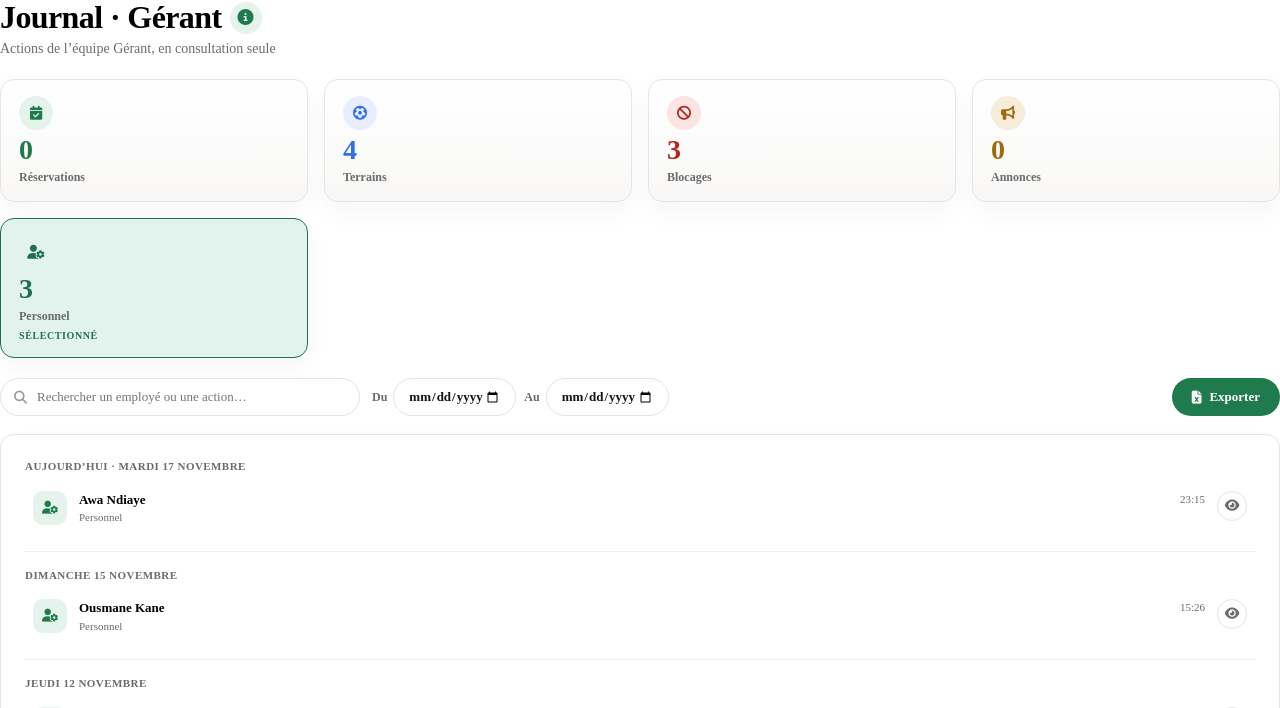
Test: Journal d’audit page › exports exactly the entries of the selected domain card, and blocks an inverted period
Earlier steps of the test are not shown.
Click the button "Exporter" at (1226, 397), box [1172, 378, 1279, 416]
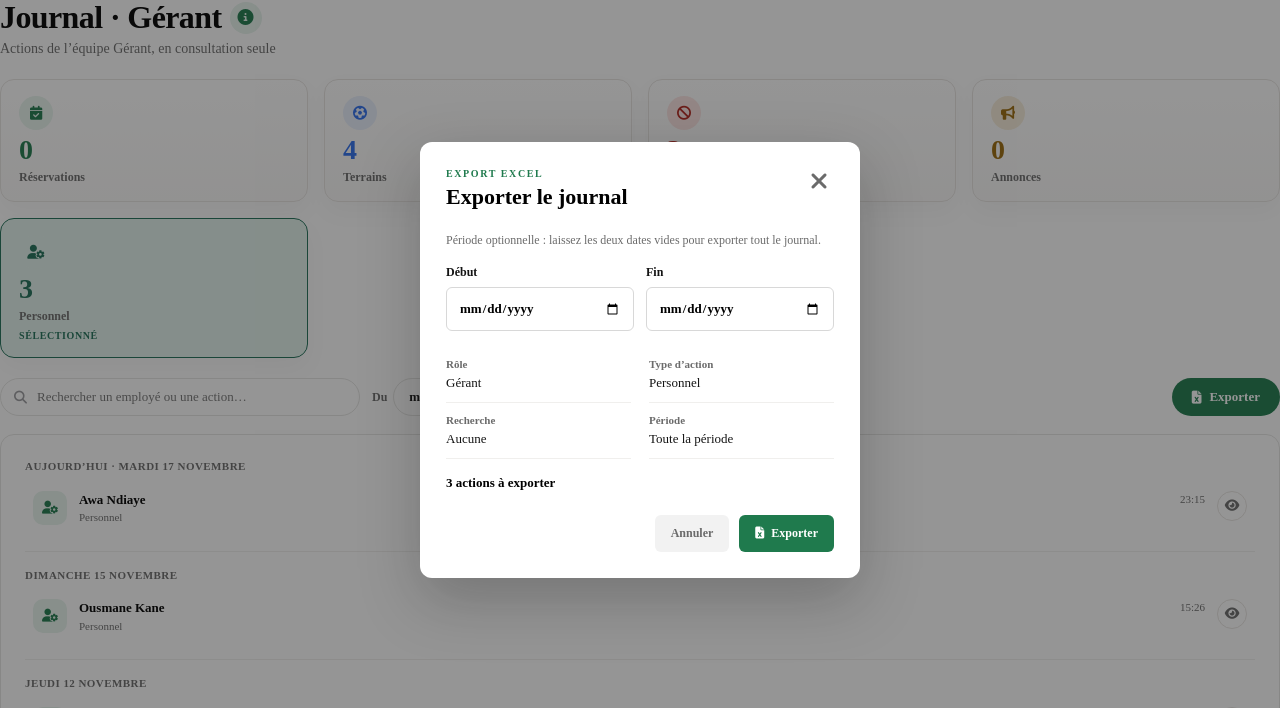
Type "2026-10-06" into the date field labelled "Début" at (540, 309), box [446, 287, 634, 331]
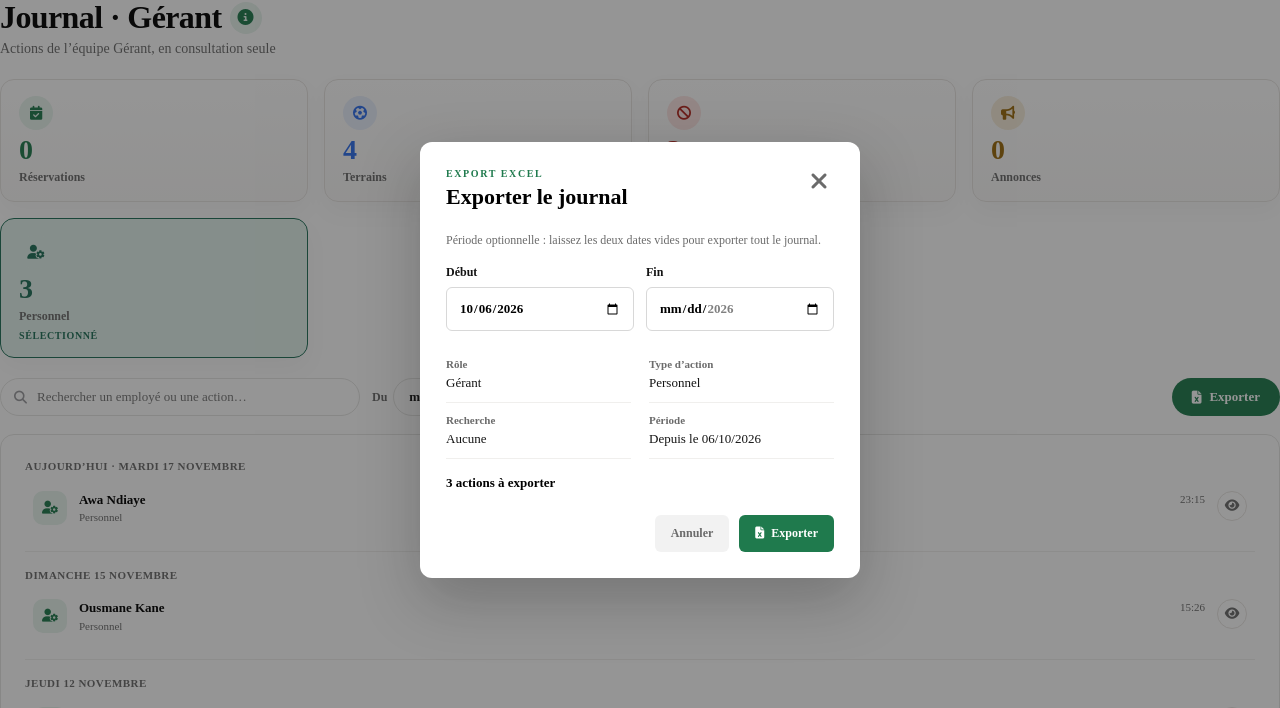
Type "2026-10-03" into the date field labelled "Fin" at (740, 309), box [646, 287, 834, 331]
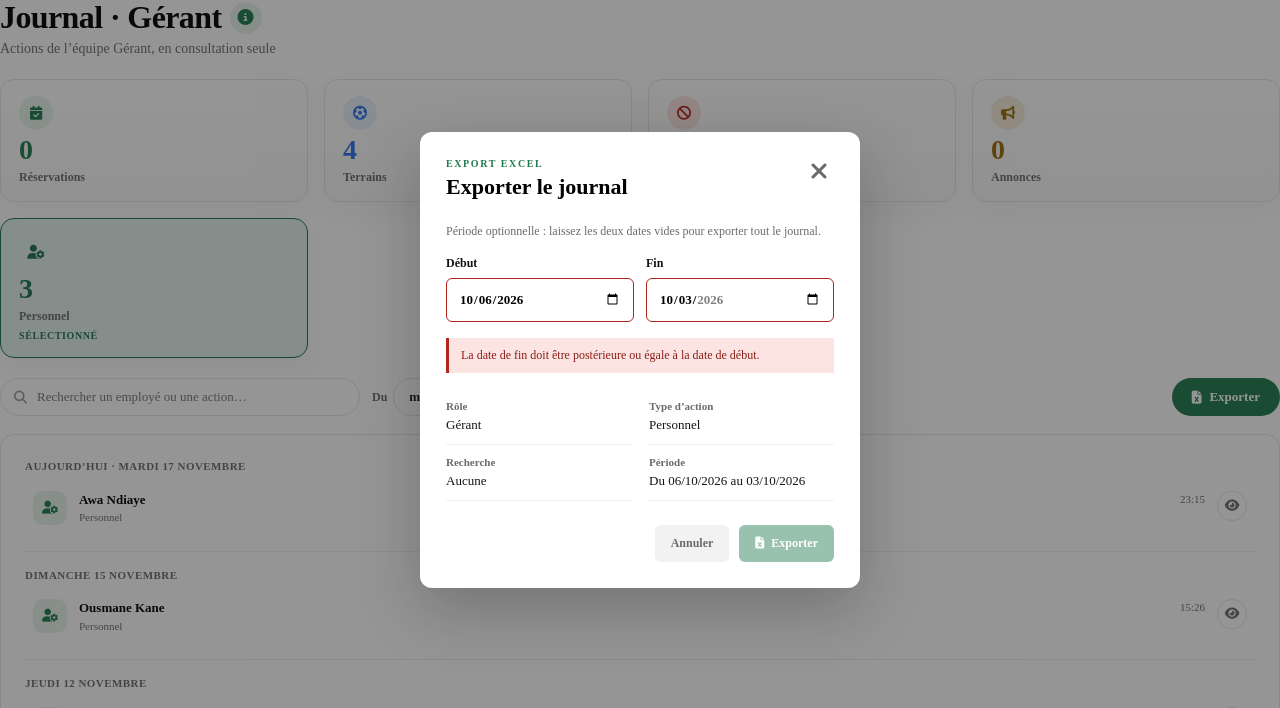
Now the message shows "La date de fin doit être postérieure", box [461, 348, 760, 362]
Now the button "Exporter" is disabled, box [739, 525, 834, 562]
Clear the date field labelled "Début" at (540, 300), box [446, 278, 634, 322]
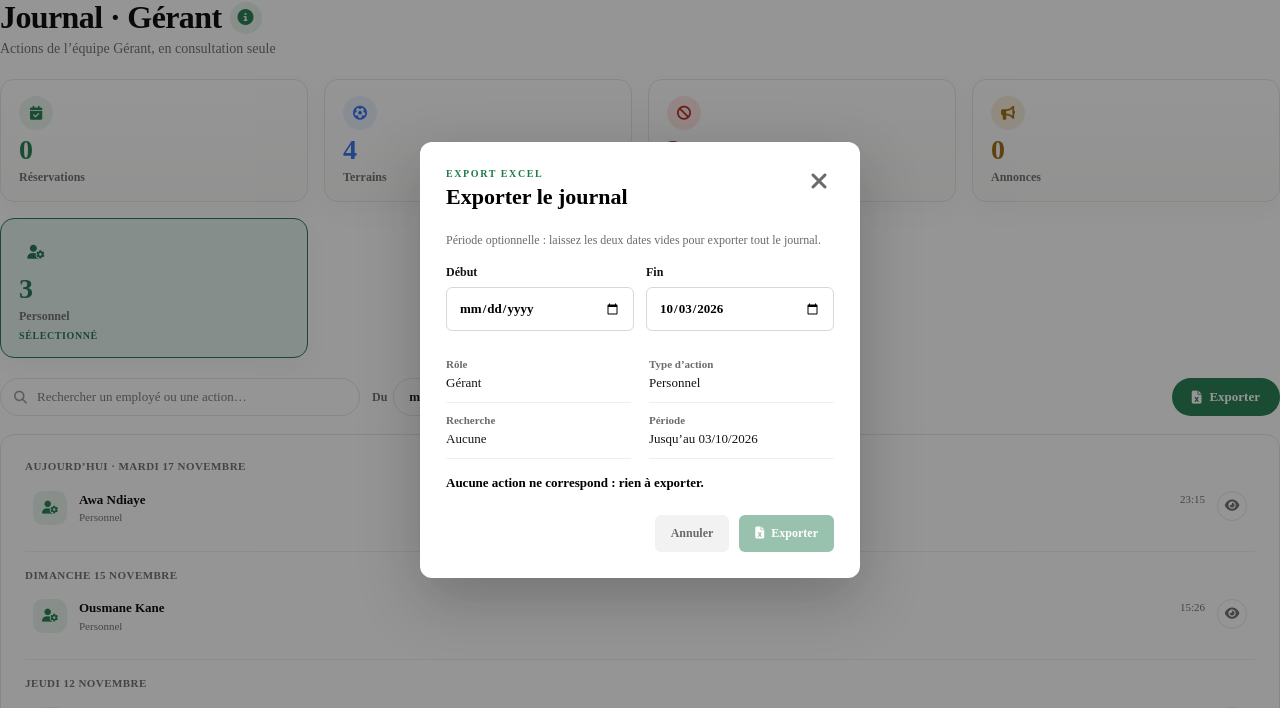
Clear the date field labelled "Fin" at (740, 309), box [646, 287, 834, 331]
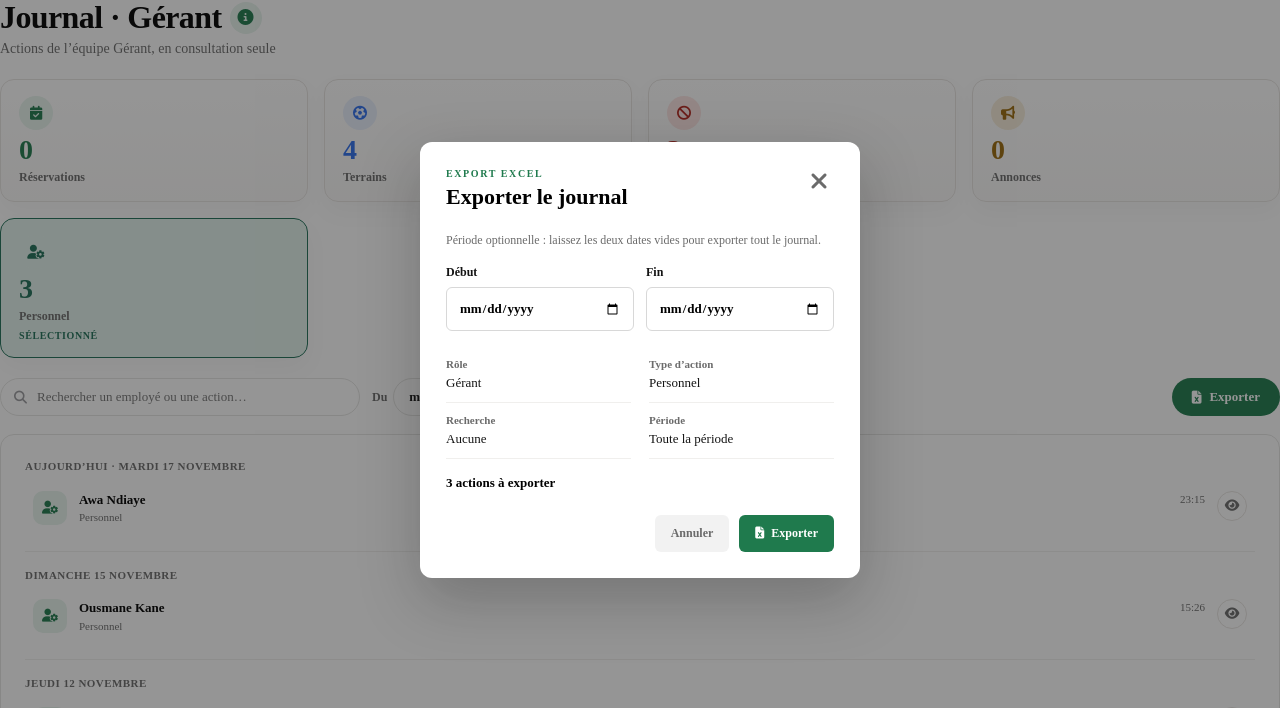
Click the button "Exporter" at (787, 534), box [739, 515, 834, 552]
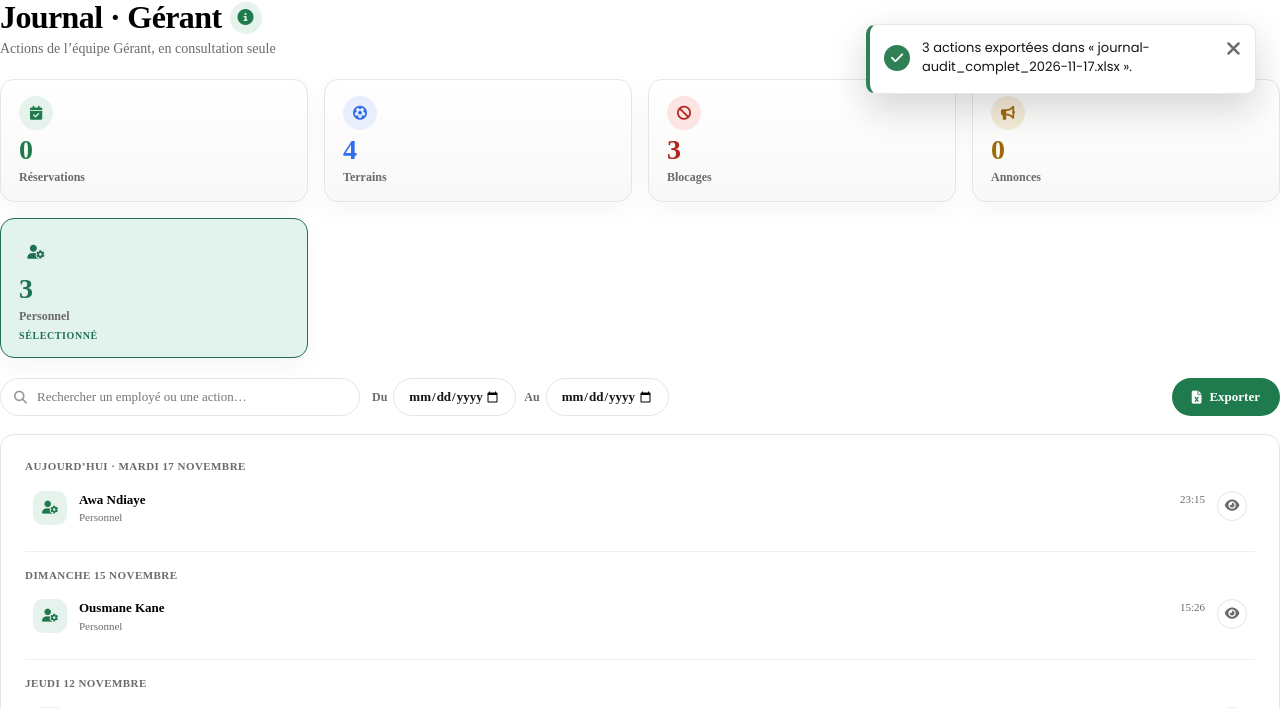
Now the dialog is gone
